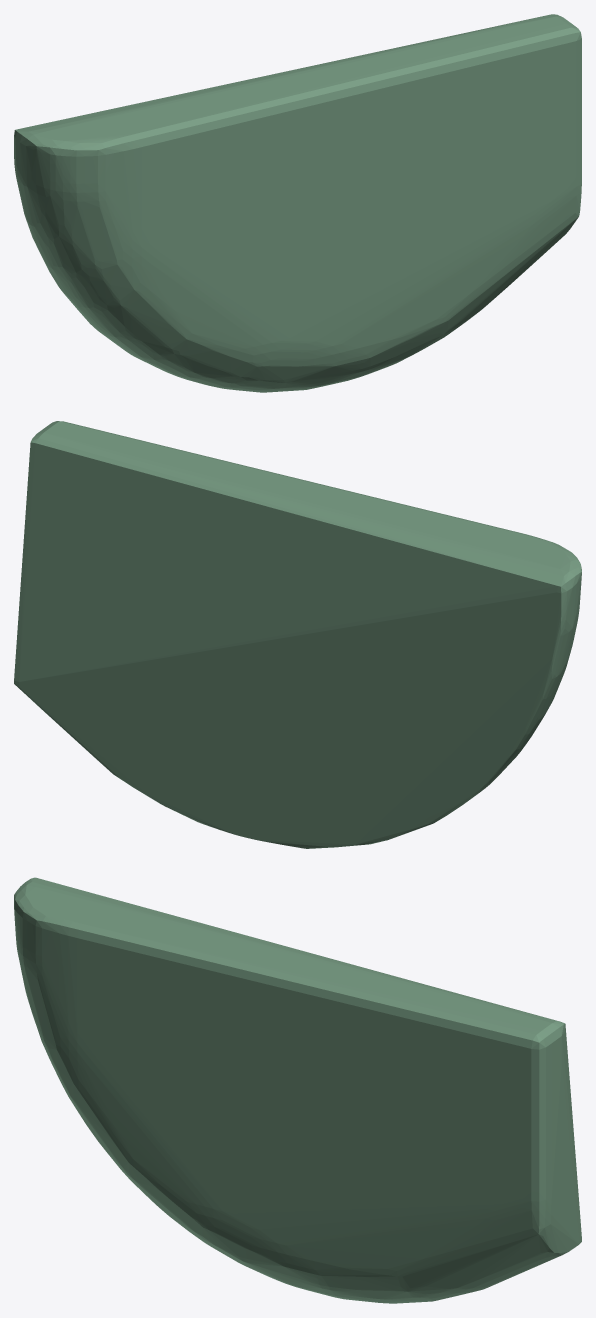
Rendered from left-toe-B-0_part_0.obj.
3 views of the same model, one above another, from view 1: azimuth 30°, elevation 25°; view 2: azimuth 150°, elevation 25°; view 3: azimuth 330°, elevation 25° (orthographic). The views are drawn at different scales.
Size of the model in its own units: 0.0455 by 0.0262 by 0.00649.
